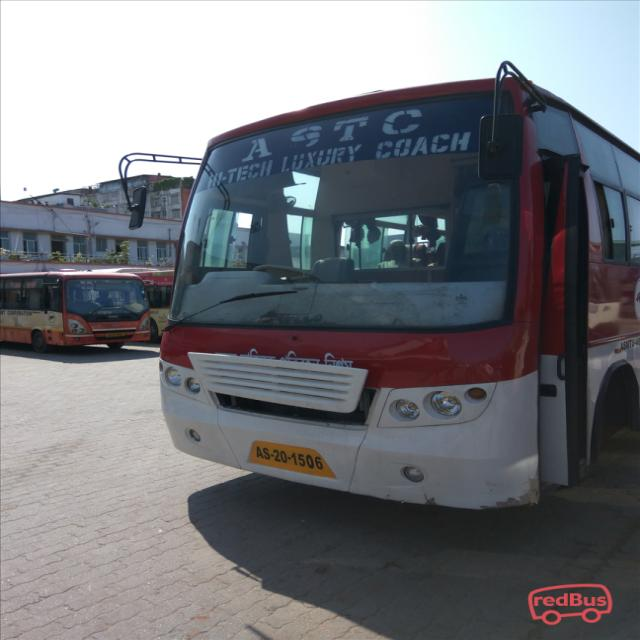Bus: (154, 50, 640, 562), (0, 268, 157, 354), (132, 268, 178, 343)
